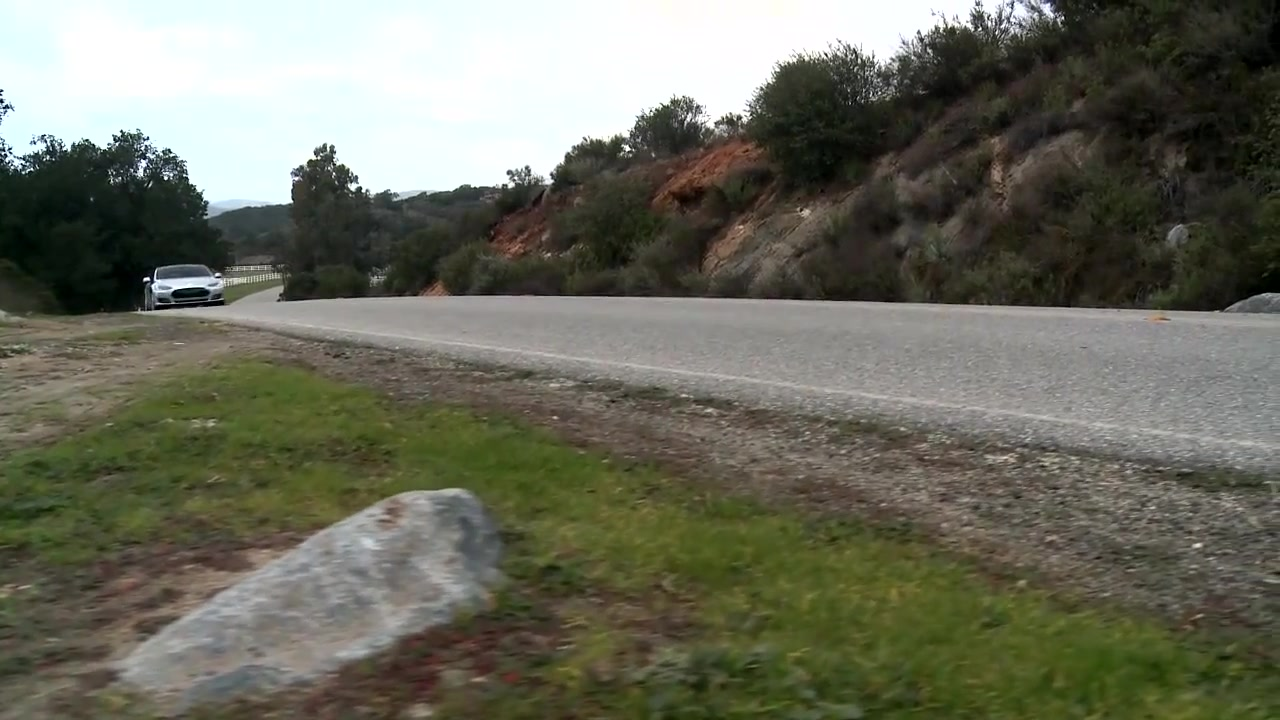car: (144, 262, 231, 312)
